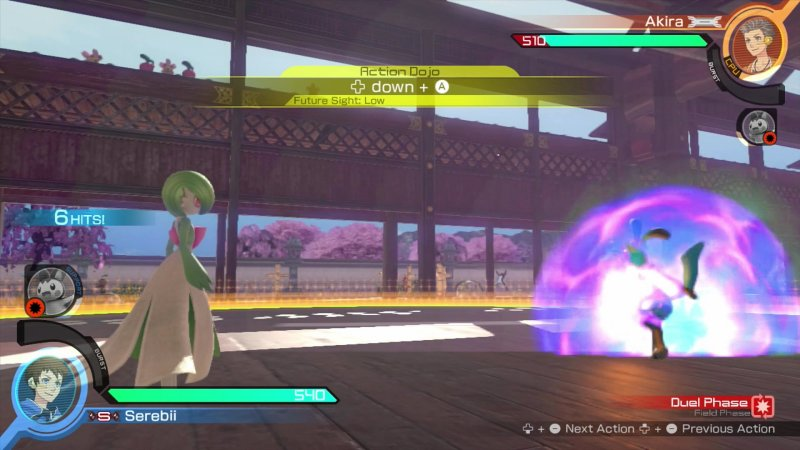gardevoir: (85, 175, 252, 390)
